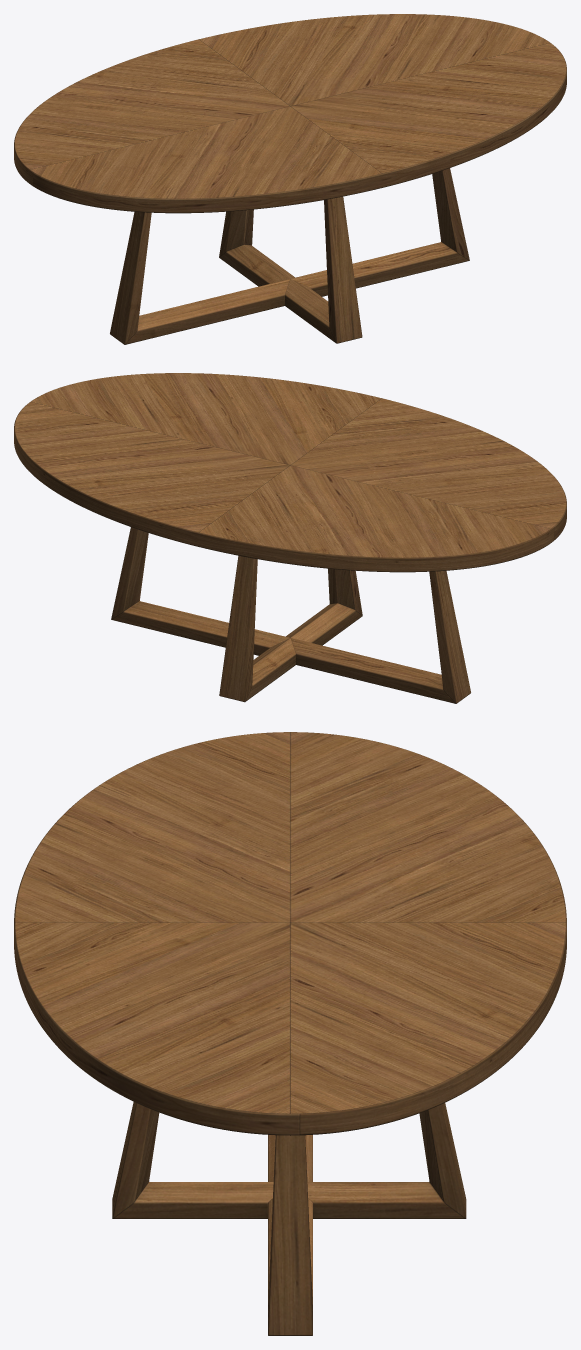
File: belgrave_coffee_table_dark_stained_oak.glb
3 renders of one model, top to bottom at view 1: azimuth 30°, elevation 25°; view 2: azimuth 150°, elevation 25°; view 3: azimuth 270°, elevation 25°, orthographic. The views are drawn at different scales.
Visible parts, largest first — view 1: Belgrave Coffee table_WOOD_0; view 2: Belgrave Coffee table_WOOD_0; view 3: Belgrave Coffee table_WOOD_0.
Boxes of the visible parts, left/top/right/bottom form: Belgrave Coffee table_WOOD_0: left=14, top=14, right=566, bottom=344; Belgrave Coffee table_WOOD_0: left=14, top=373, right=566, bottom=703; Belgrave Coffee table_WOOD_0: left=14, top=732, right=566, bottom=1335.
Size of what is drawn, in the model's own units: 99.68 by 34.91 by 60.9.
1 material, 1 textured.
